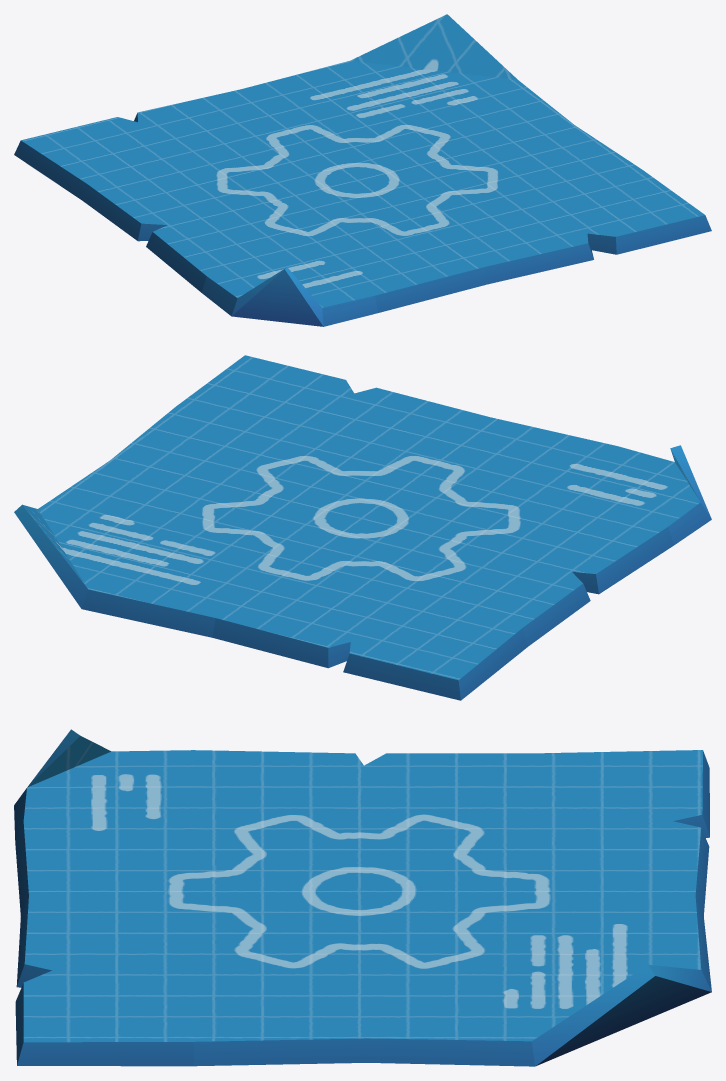
File: blueprint.fbx
3 renders of one model, top to bottom at view 1: azimuth 30°, elevation 25°; view 2: azimuth 150°, elevation 25°; view 3: azimuth 270°, elevation 25°, orthographic. The views are drawn at different scales.
Parts seen in each view (by area): view 1: blueprint; view 2: blueprint; view 3: blueprint.
Part boxes in pixels (left/top/right/bottom): blueprint: left=14, top=14, right=711, bottom=326; blueprint: left=14, top=355, right=711, bottom=700; blueprint: left=14, top=729, right=711, bottom=1066.
Size of the model in its own units: 149 by 18.03 by 146.
